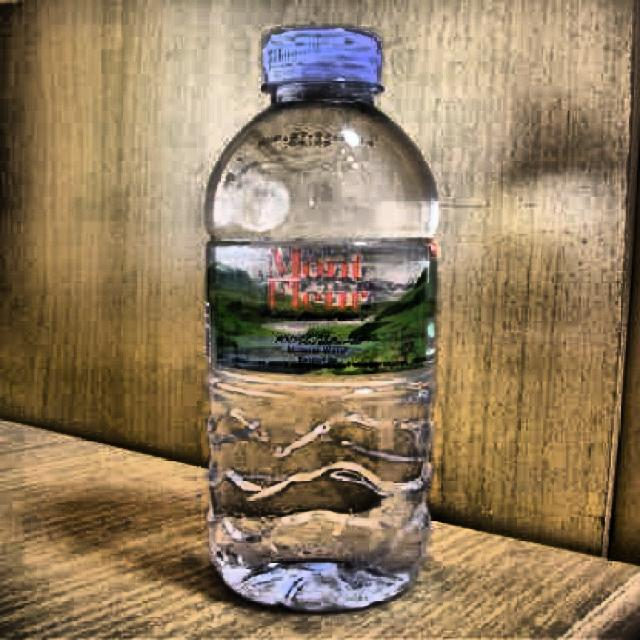Bottles: (201, 13, 455, 625)
